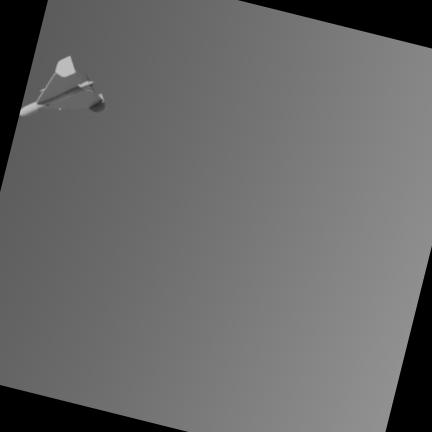Shahed: (19, 55, 105, 114)
